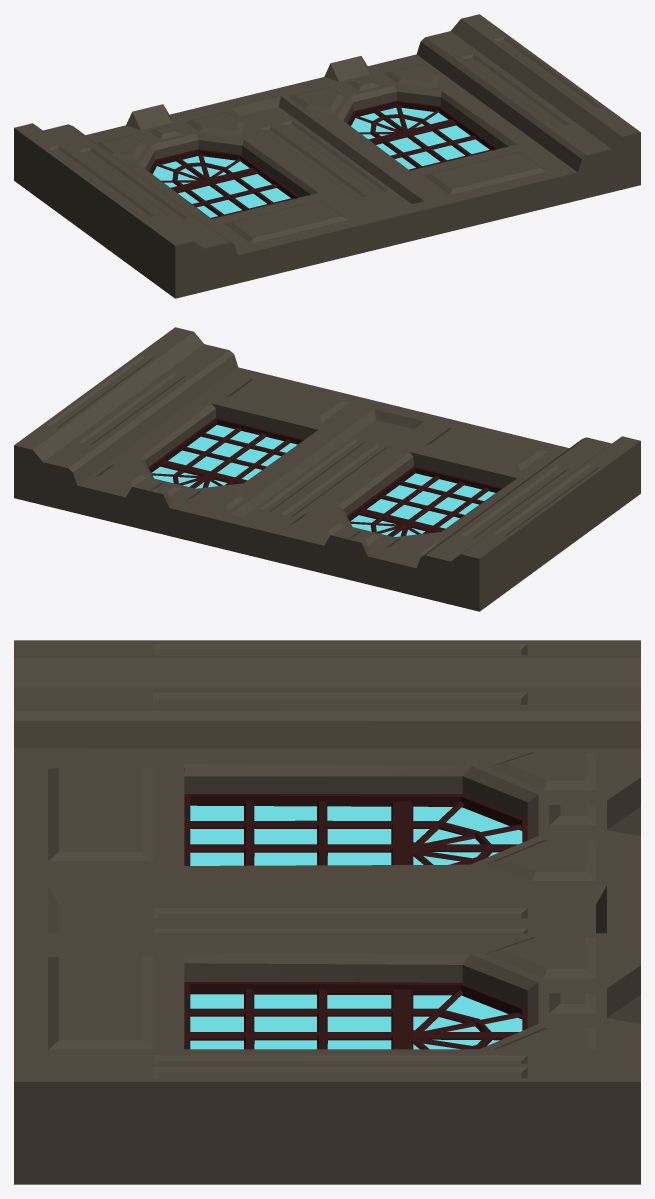
Rendered from P_F_DoubleWCadreArrondie.fbx.
3 renders of one model, top to bottom at view 1: azimuth 30°, elevation 25°; view 2: azimuth 150°, elevation 25°; view 3: azimuth 270°, elevation 25°, orthographic. The views are drawn at different scales.
Visible parts, largest first — view 1: P_F_DoubleWCadreArrondie; view 2: P_F_DoubleWCadreArrondie; view 3: P_F_DoubleWCadreArrondie.
Boxes of the visible parts, left/top/right/bottom form: P_F_DoubleWCadreArrondie: left=14, top=14, right=640, bottom=298; P_F_DoubleWCadreArrondie: left=14, top=327, right=640, bottom=611; P_F_DoubleWCadreArrondie: left=14, top=640, right=640, bottom=1184.
Bounding box in the file's own units: 650 × 70.51 × 390.
